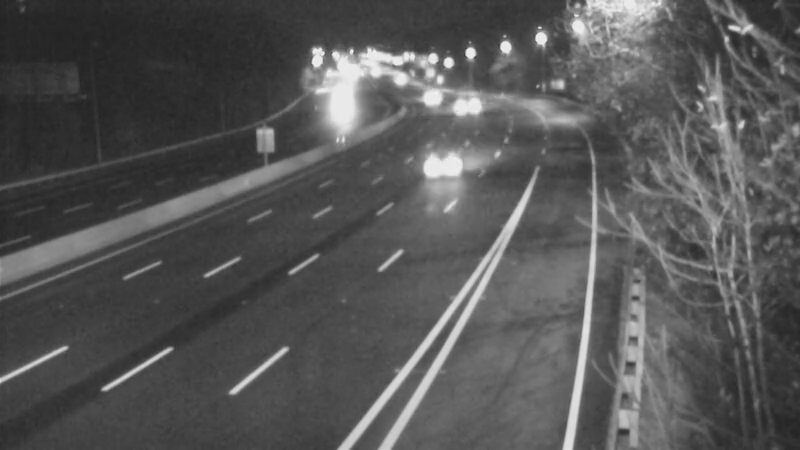vehicle: (403, 121, 483, 201), (369, 51, 419, 101), (404, 76, 454, 126), (437, 81, 487, 131), (311, 77, 361, 127)
